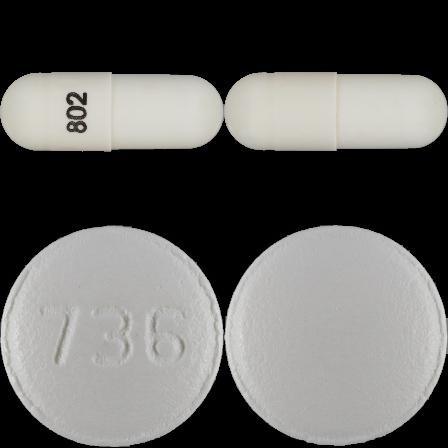61919-029: (0, 0, 224, 224)
